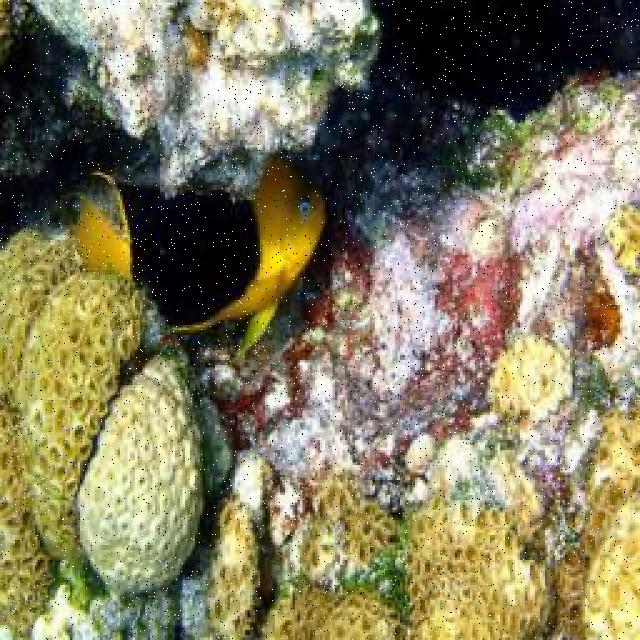fish: (70, 156, 328, 356)
reefs: (0, 226, 146, 638), (262, 478, 549, 638), (78, 357, 204, 599), (545, 398, 638, 638), (487, 333, 576, 427), (204, 494, 256, 638)
